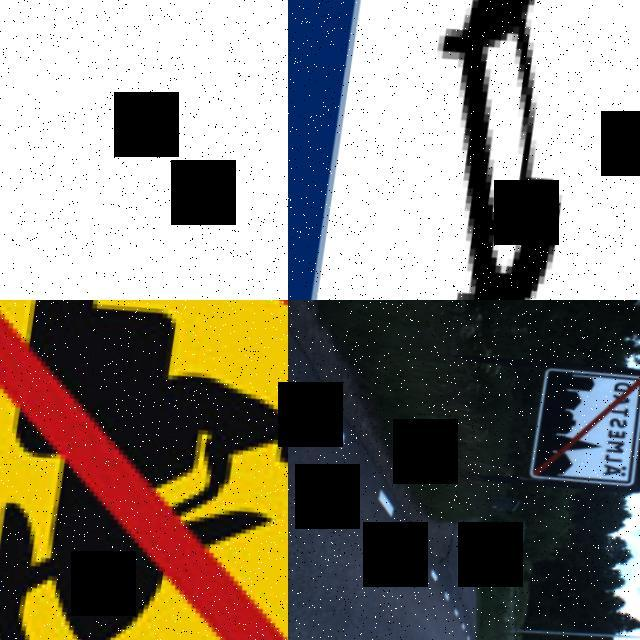128: (525, 362, 640, 500)
47: (0, 300, 288, 640)
Hotel: (288, 0, 640, 300)
Level crossing countdown marker: (0, 0, 288, 300)
No snowmobiles: (0, 300, 288, 640)
